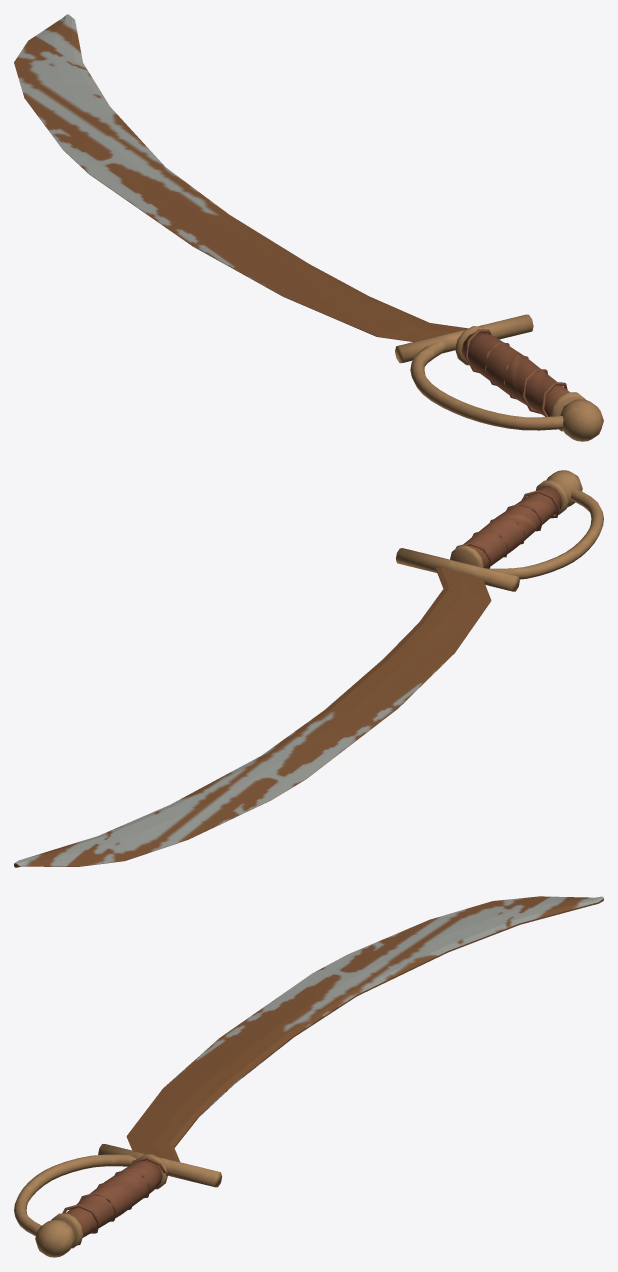
Rendered from item_item016.glb.
The picture shows the model from 3 angles, top to bottom: view 1: azimuth 30°, elevation 25°; view 2: azimuth 150°, elevation 25°; view 3: azimuth 330°, elevation 25°; orthographic projection. The views are drawn at different scales.
Parts seen in each view (by area): view 1: swords_item016; view 2: swords_item016; view 3: swords_item016.
Boxes of the visible parts, x1,y1,x2,y2 form: swords_item016: (14,14,603,441); swords_item016: (14,470,603,867); swords_item016: (14,896,603,1257).
Bounding box in the file's own units: 0.2299 × 0.055 × 1.37.
1 material, 1 textured.
